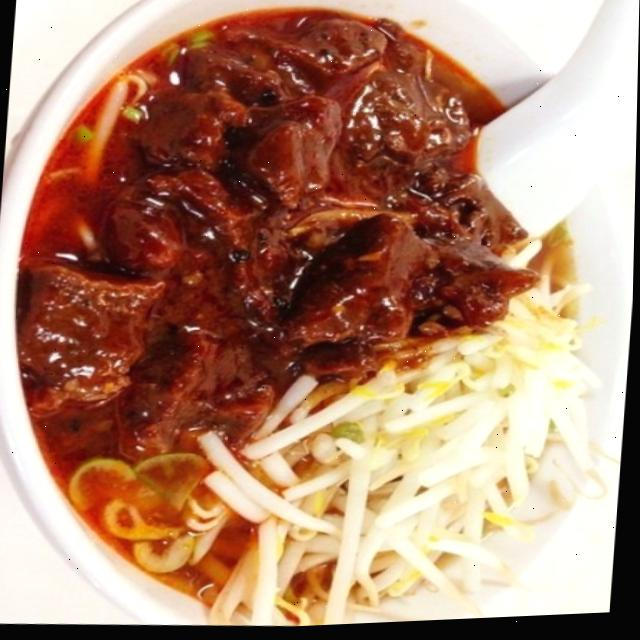面条主食: (0, 0, 620, 634)
